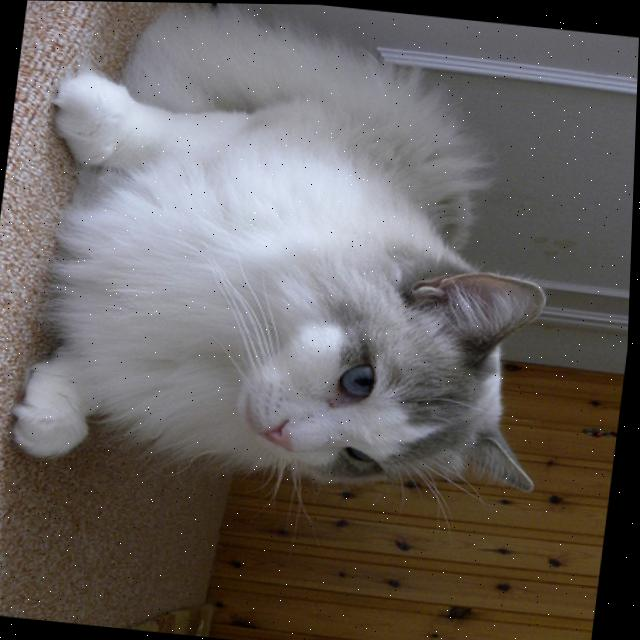Ragdoll: (5, 0, 601, 513)
